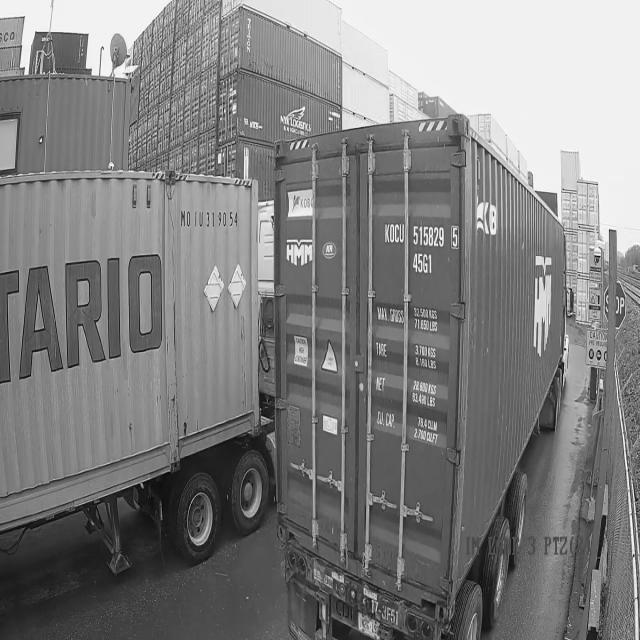container_company_logo: (284, 235, 312, 268)
container_number: (381, 212, 457, 277)
container_side_no: (179, 204, 241, 232)
other_container_info: (374, 287, 444, 444)
truck_with_container: (274, 114, 568, 639), (0, 172, 275, 573)
